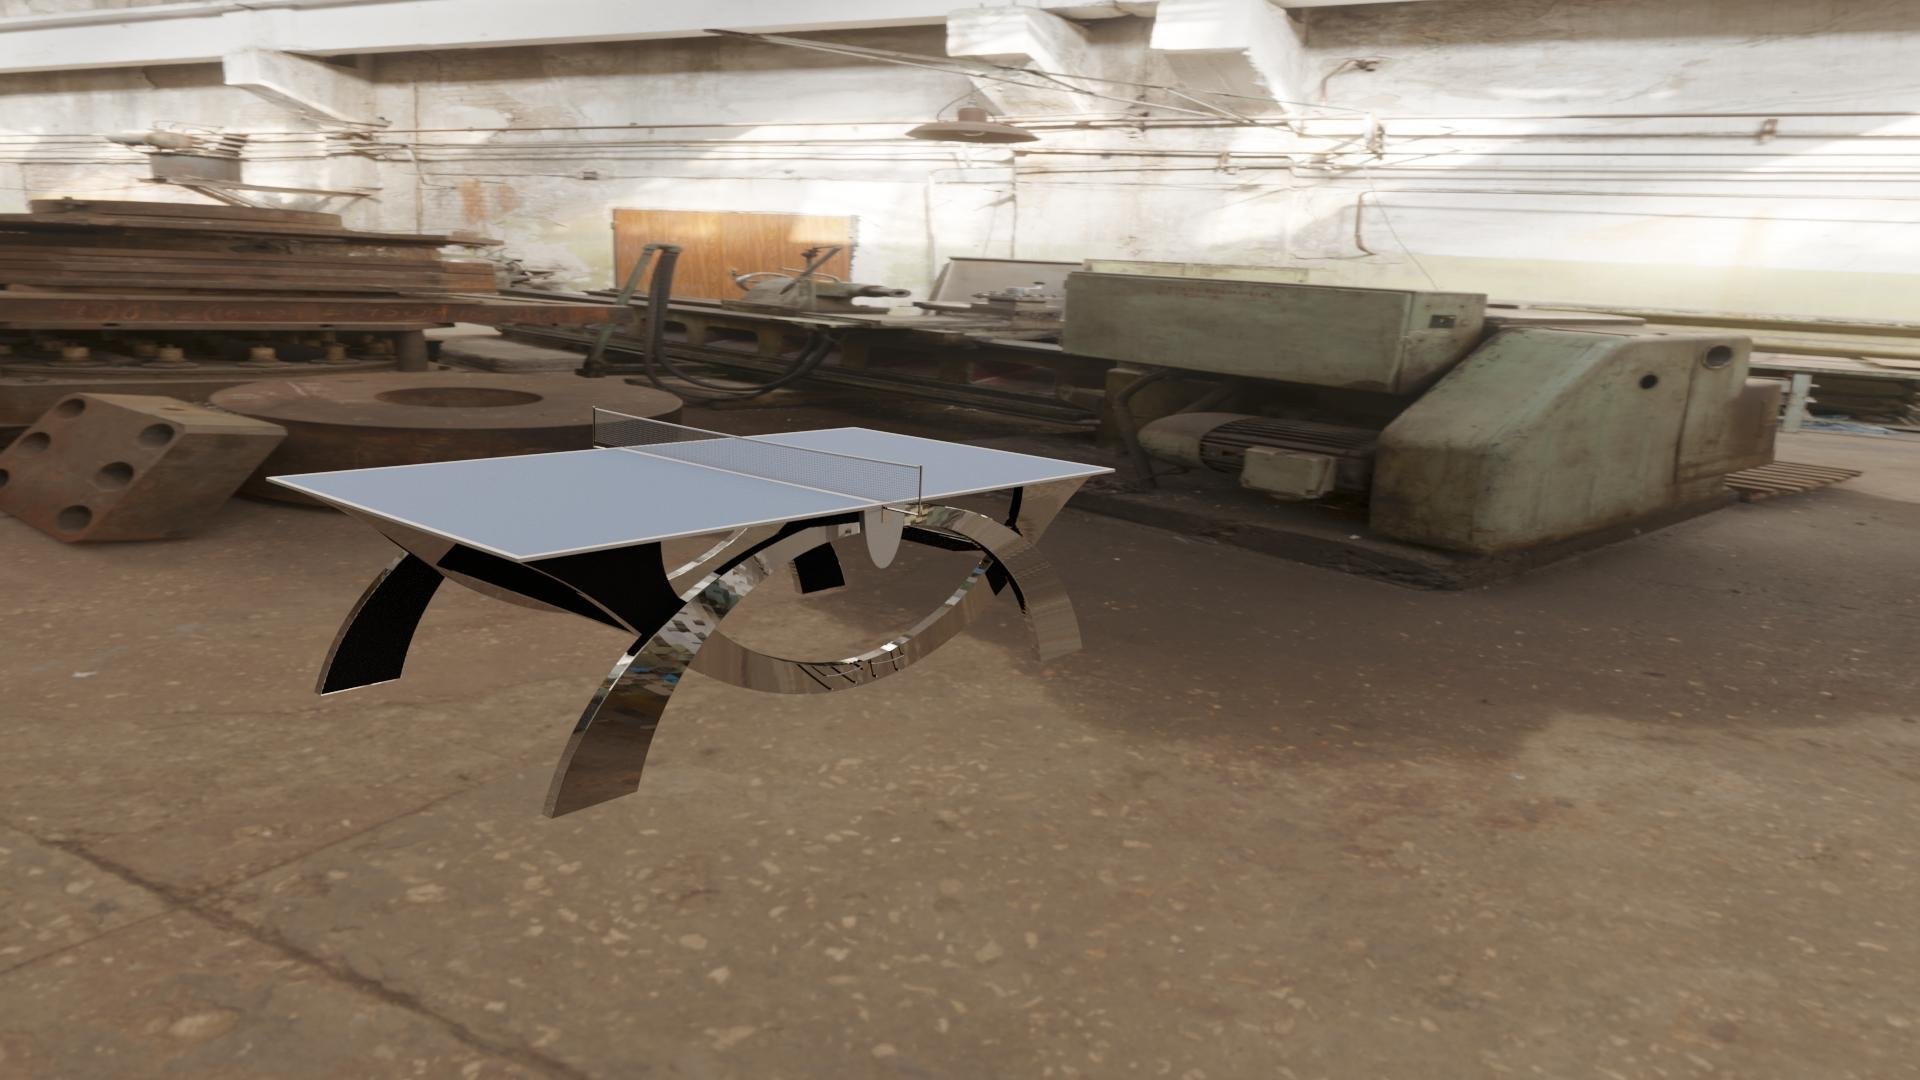table: (274, 429, 1109, 556)
